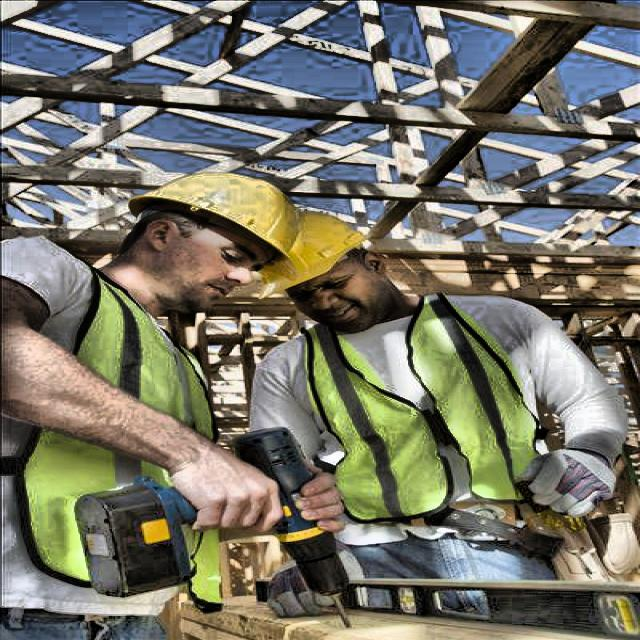helmet: (118, 171, 301, 306), (262, 212, 398, 330)
